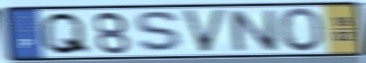8: (92, 10, 131, 55)
N: (225, 8, 282, 54)
O: (277, 6, 327, 54)
Q: (38, 10, 94, 56)
S: (132, 9, 188, 55)
V: (179, 8, 229, 55)
